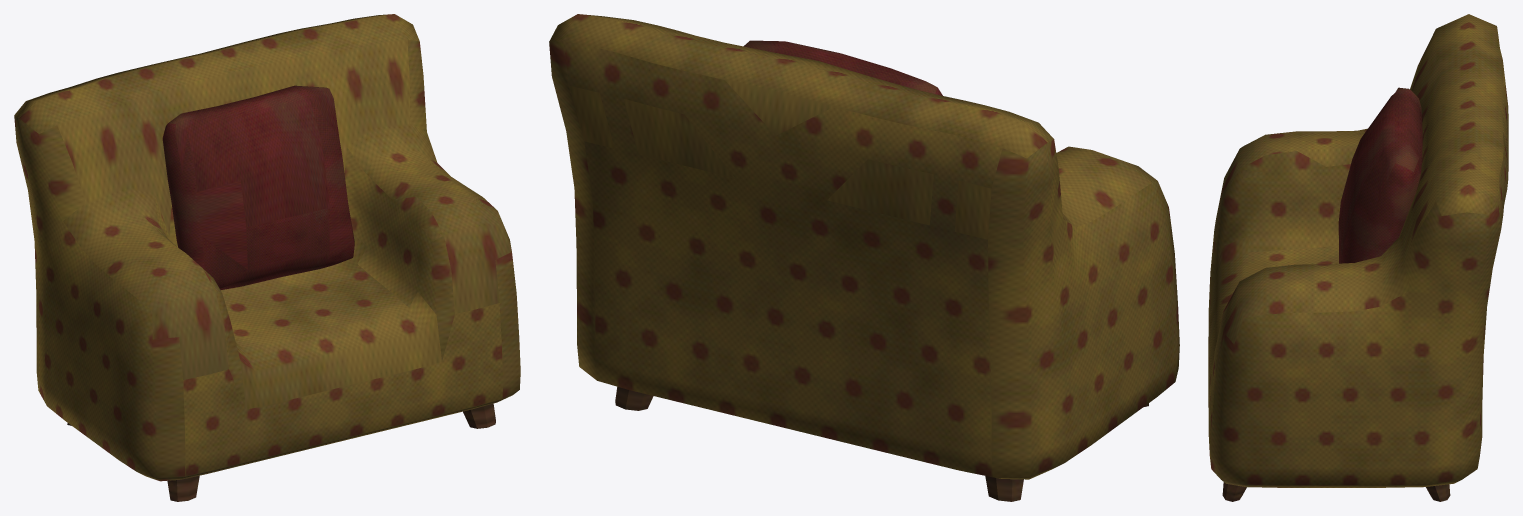
The model's file is CouchSingle.fbx.
3 renders of one model, left to right at view 1: azimuth 30°, elevation 25°; view 2: azimuth 150°, elevation 25°; view 3: azimuth 270°, elevation 25°, orthographic. The views are drawn at different scales.
Parts seen in each view (by area): view 1: Couch.001, CouchPillow.003, CouchLegs.001; view 2: Couch.001, CouchPillow.003, CouchLegs.001; view 3: Couch.001, CouchPillow.003, CouchLegs.001.
Boxes of the visible parts, <box> form: Couch.001: <box>14,14,520,481</box>; CouchPillow.003: <box>162,85,354,289</box>; CouchLegs.001: <box>67,403,495,501</box>; Couch.001: <box>549,14,1179,479</box>; CouchPillow.003: <box>743,40,942,95</box>; CouchLegs.001: <box>615,386,1148,501</box>; Couch.001: <box>1208,14,1508,487</box>; CouchPillow.003: <box>1338,87,1422,263</box>; CouchLegs.001: <box>1222,482,1450,501</box>.
Bounding box in the file's own units: 1.2 × 0.937 × 0.7868.
3 materials, 3 textured.
